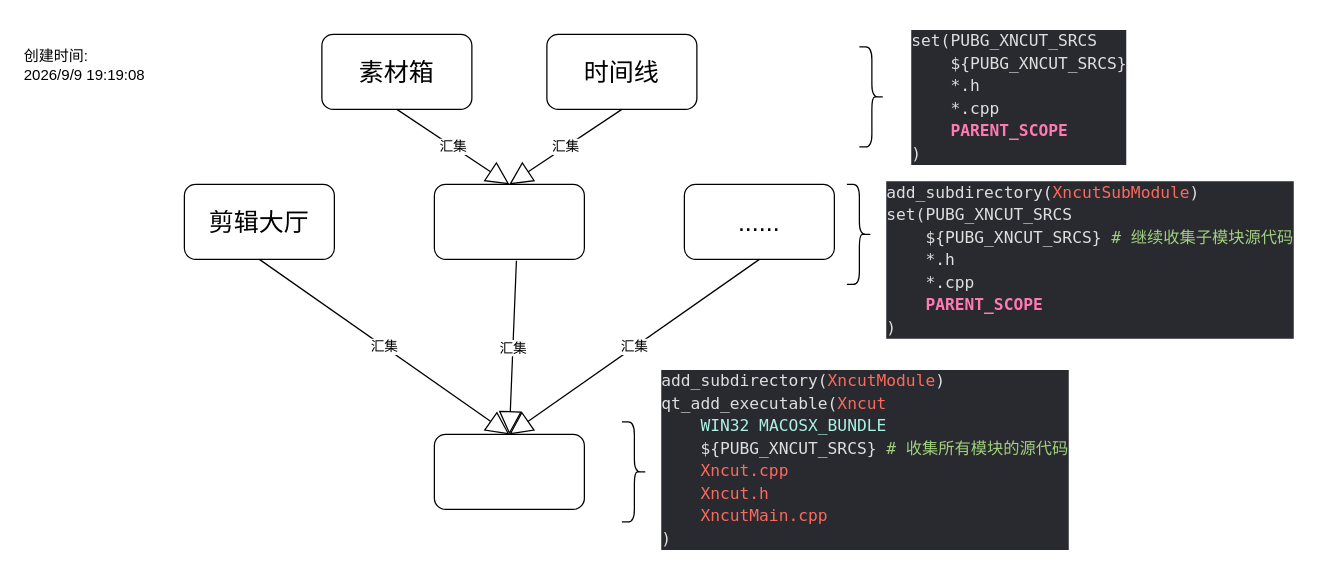
This 1330x580 diagram has some shape labels left out. The centre of each missing label's shape, as x and y in pixels:
Xncut: (x=508, y=471)
编辑器: (x=508, y=221)
